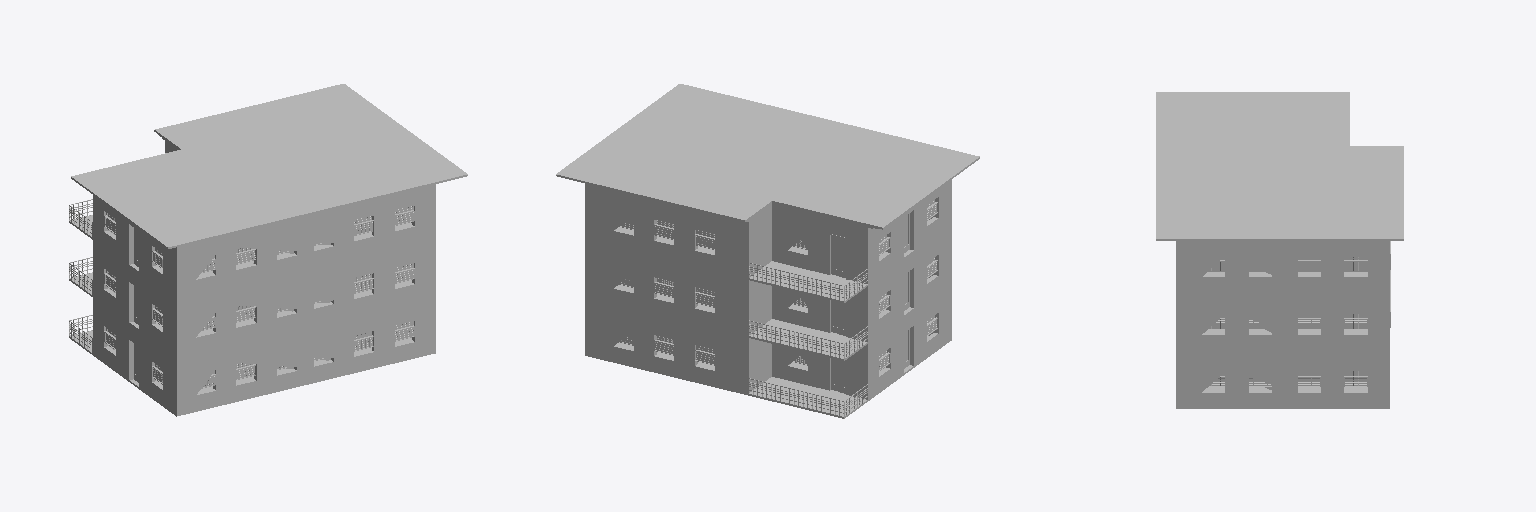
The model's file is villa_21.obj.
The picture shows the model from 3 angles: view 1: azimuth 30°, elevation 25°; view 2: azimuth 150°, elevation 25°; view 3: azimuth 270°, elevation 25°; orthographic projection.
Visible parts, largest first — view 1: giris_kat_zemin006, giris_kat, giris_kat002, giris_kat004, giris_kat_zemin001, giris_kat_zemin002, giris_kat_zemin; view 2: giris_kat_zemin006, giris_kat004, giris_kat, giris_kat002, Rectangle004, Rectangle001, Rectangle006, Rectangle005, Rectangle002, Rectangle003, SlidingDoor003, SlidingDoor002 (+1 smaller); view 3: giris_kat_zemin006, giris_kat002, giris_kat, giris_kat004, giris_kat_zemin001, giris_kat_zemin002, giris_kat_zemin, SlidingWindow005, SlidingWindow004, SlidingWindow037, SlidingWindow036.
Part boxes in pixels (bbox=[...]): giris_kat_zemin006: bbox=[71, 84, 467, 248]; giris_kat: bbox=[93, 296, 435, 416]; giris_kat002: bbox=[93, 238, 435, 358]; giris_kat004: bbox=[93, 142, 435, 300]; giris_kat_zemin001: bbox=[130, 280, 435, 357]; giris_kat_zemin002: bbox=[115, 222, 435, 299]; giris_kat_zemin: bbox=[115, 338, 435, 414]; giris_kat_zemin006: bbox=[556, 84, 979, 229]; giris_kat004: bbox=[585, 180, 951, 285]; giris_kat: bbox=[585, 283, 951, 400]; giris_kat002: bbox=[585, 225, 951, 343]; Rectangle004: bbox=[749, 319, 867, 360]; Rectangle001: bbox=[749, 377, 867, 418]; Rectangle006: bbox=[749, 261, 867, 302]; Rectangle005: bbox=[748, 263, 867, 301]; Rectangle002: bbox=[748, 378, 867, 416]; Rectangle003: bbox=[748, 320, 867, 359]; SlidingDoor003: bbox=[829, 234, 846, 279]; SlidingDoor002: bbox=[829, 300, 846, 336]; giris_kat_zemin006: bbox=[1156, 92, 1403, 240]; giris_kat002: bbox=[1176, 293, 1389, 348]; giris_kat: bbox=[1176, 351, 1389, 406]; giris_kat004: bbox=[1176, 241, 1389, 290]; giris_kat_zemin001: bbox=[1176, 329, 1389, 350]; giris_kat_zemin002: bbox=[1176, 272, 1389, 292]; giris_kat_zemin: bbox=[1176, 387, 1389, 408]; SlidingWindow005: bbox=[1296, 370, 1321, 393]; SlidingWindow004: bbox=[1343, 370, 1368, 393]; SlidingWindow037: bbox=[1296, 255, 1321, 277]; SlidingWindow036: bbox=[1343, 255, 1368, 277].
Size of the model in its own units: 643 by 370 by 460.